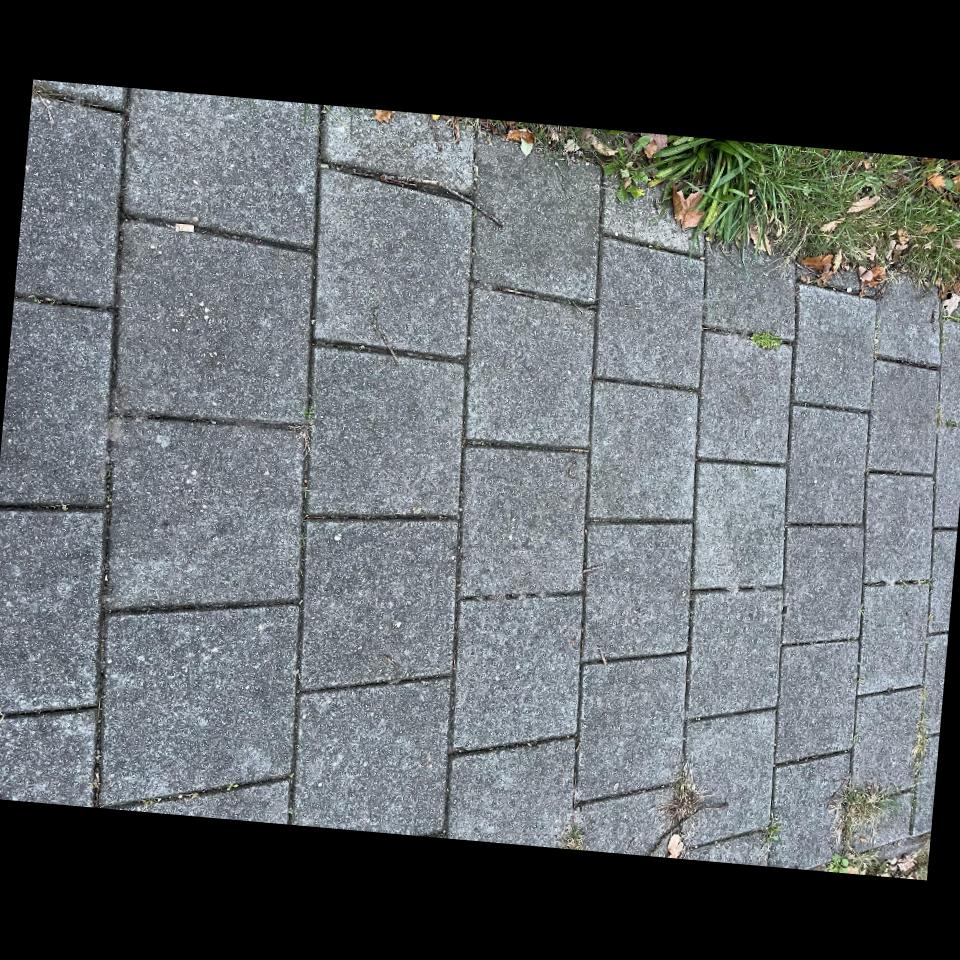weed: (829, 792, 887, 851), (659, 785, 705, 825), (751, 332, 782, 350)
